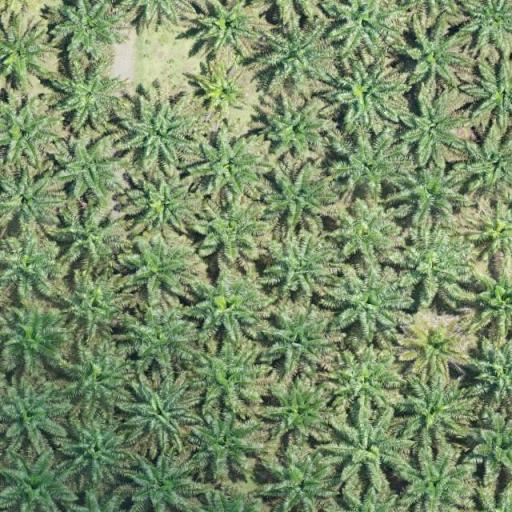Ganoderma: (205, 78, 242, 108)
